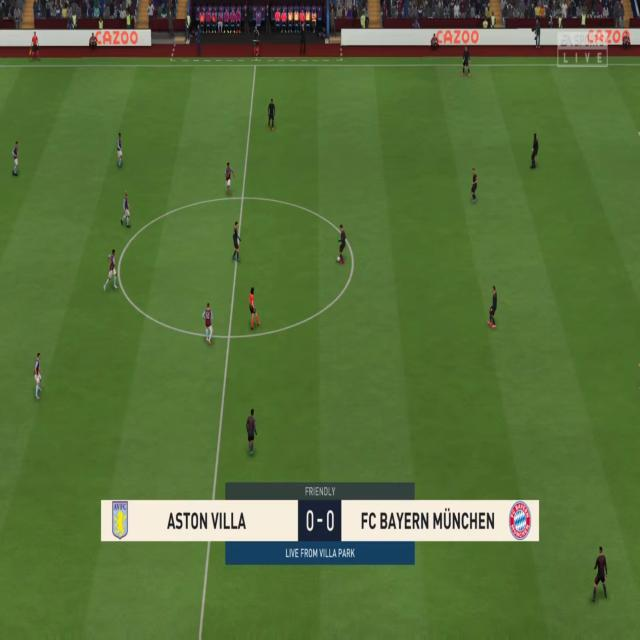Ball: (336, 256, 342, 264)
Referee: (248, 287, 262, 331)
Team-A: (592, 546, 610, 606), (246, 409, 259, 458), (336, 223, 351, 264), (486, 286, 498, 330), (531, 134, 542, 172), (231, 222, 241, 262), (267, 99, 277, 133), (471, 171, 480, 204), (462, 48, 472, 76)
Team-H: (104, 247, 119, 293), (33, 352, 45, 400), (203, 301, 215, 346), (121, 191, 133, 230), (12, 142, 22, 178), (223, 162, 233, 196), (116, 132, 125, 168)
